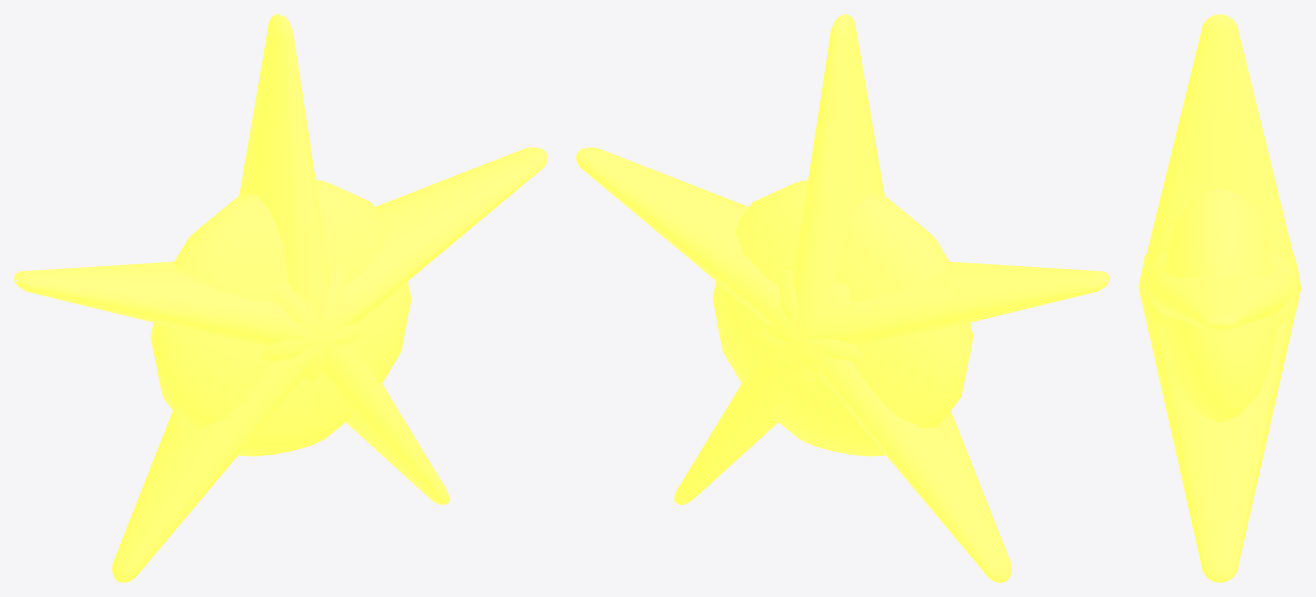
Rendered from star3d.glb.
3 views of the same model, side by side, from view 1: azimuth 30°, elevation 25°; view 2: azimuth 150°, elevation 25°; view 3: azimuth 270°, elevation 25° (orthographic). The views are drawn at different scales.
Visible parts, largest first — view 1: star3d; view 2: star3d; view 3: star3d.
Boxes of the visible parts, x1=… form: star3d: x1=14, y1=14, x2=547, y2=582; star3d: x1=576, y1=14, x2=1109, y2=582; star3d: x1=1138, y1=14, x2=1301, y2=582.
Size of the model in its own units: 0.9142 by 0.8697 by 0.26.
